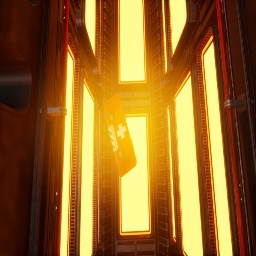FirstAidBox ,: (103, 93, 137, 177)
